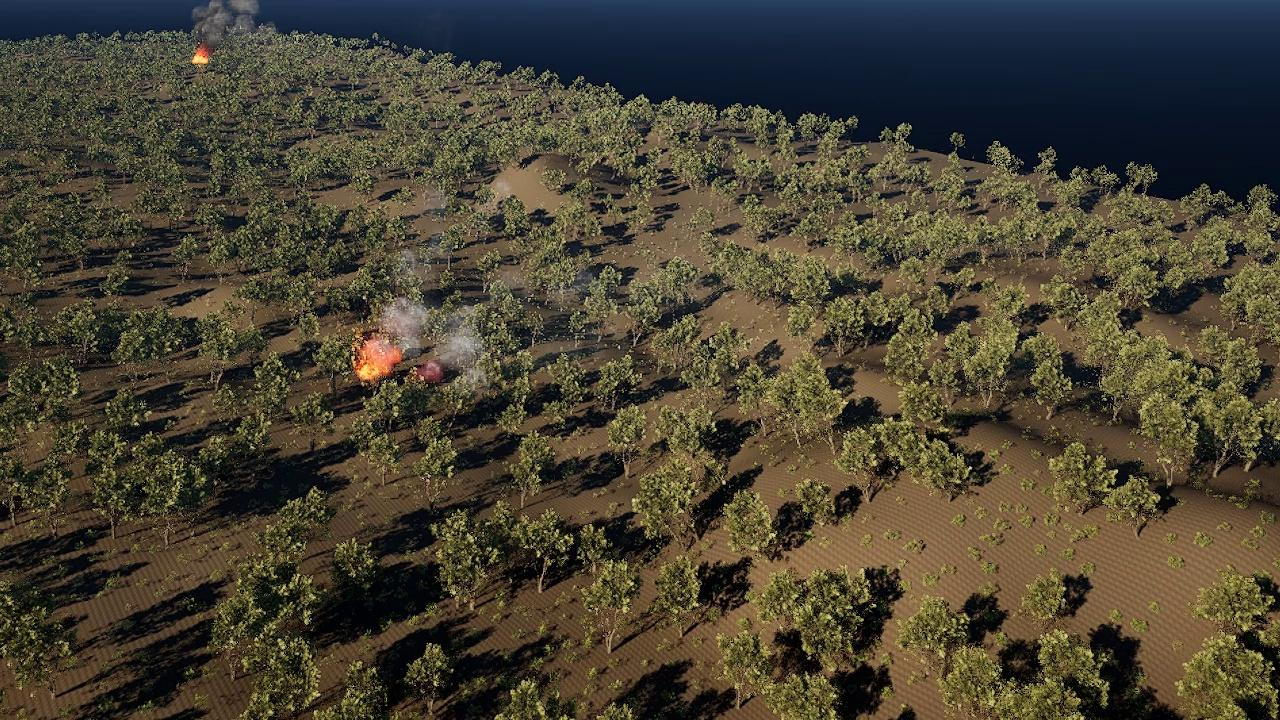fire: (351, 341, 399, 381), (194, 47, 213, 63)
smoke: (358, 184, 598, 386), (189, 0, 270, 46)
